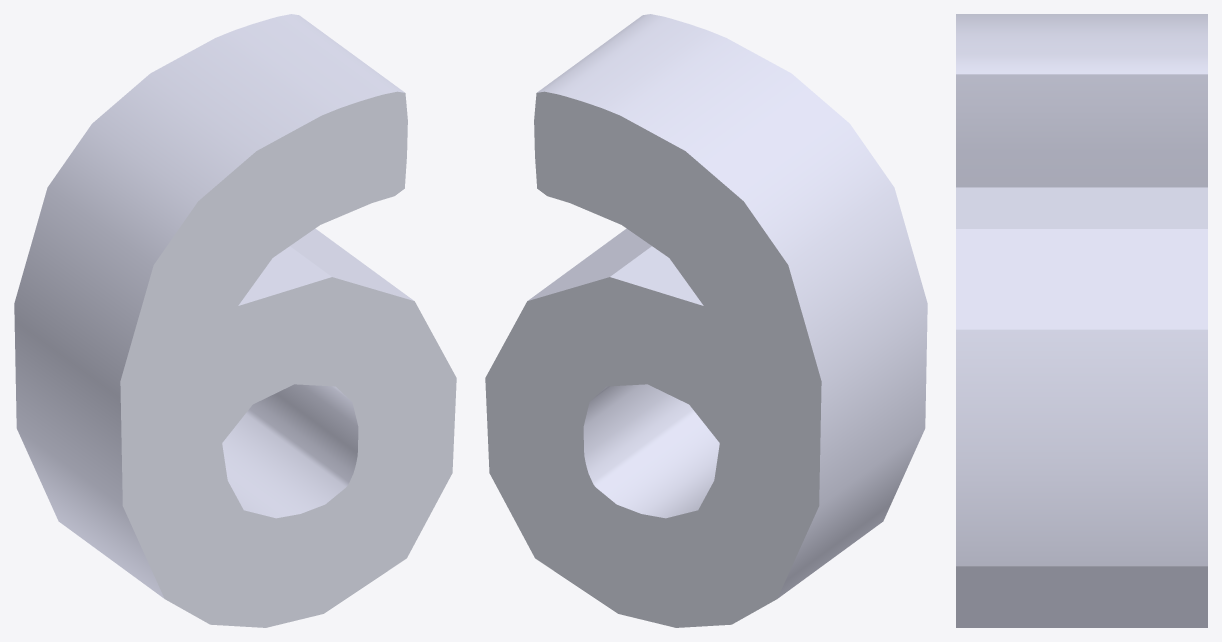
Rendered from 2685add5-448f-47c9-96a6-48a380062b6d.glb.
The picture shows the model from 3 angles, left to right: view 1: azimuth 30°, elevation 25°; view 2: azimuth 150°, elevation 25°; view 3: azimuth 270°, elevation 25°; orthographic projection. The views are drawn at different scales.
Parts seen in each view (by area): view 1: 6_Zyzol_Grey; view 2: 6_Zyzol_Grey; view 3: 6_Zyzol_Grey.
Boxes of the visible parts, <box> form: 6_Zyzol_Grey: <box>14,14,456,627</box>; 6_Zyzol_Grey: <box>485,14,927,627</box>; 6_Zyzol_Grey: <box>956,14,1207,627</box>.
Size of what is drawn, in the model's own units: 0.0823 by 0.1181 by 0.045.
2 materials, 2 textured.
